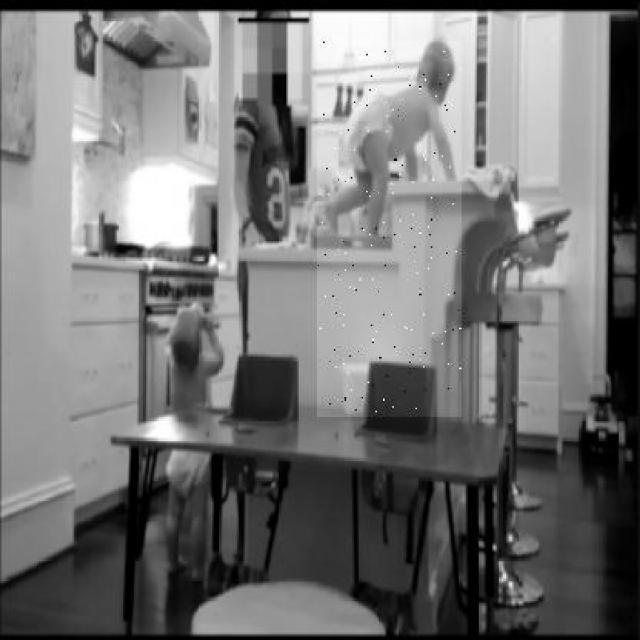child: (316, 40, 461, 417)
